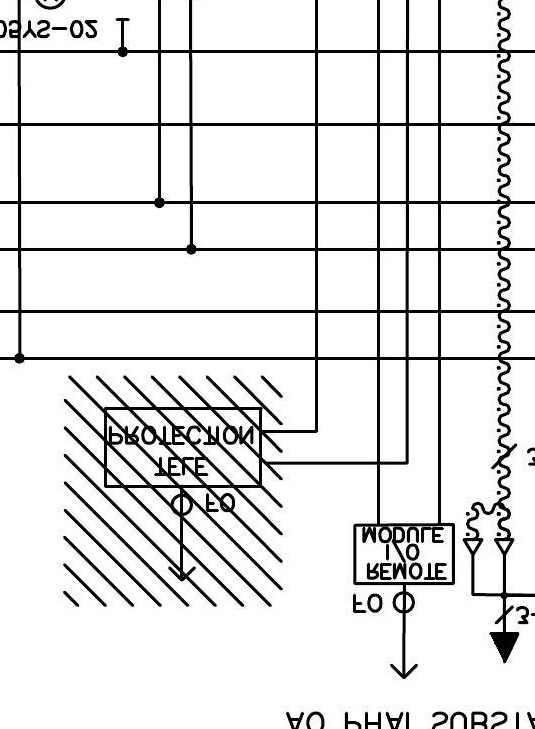remote_io_module: (351, 521, 457, 587)
tele_protection: (101, 404, 264, 490)
terminator_double: (461, 537, 516, 597)
